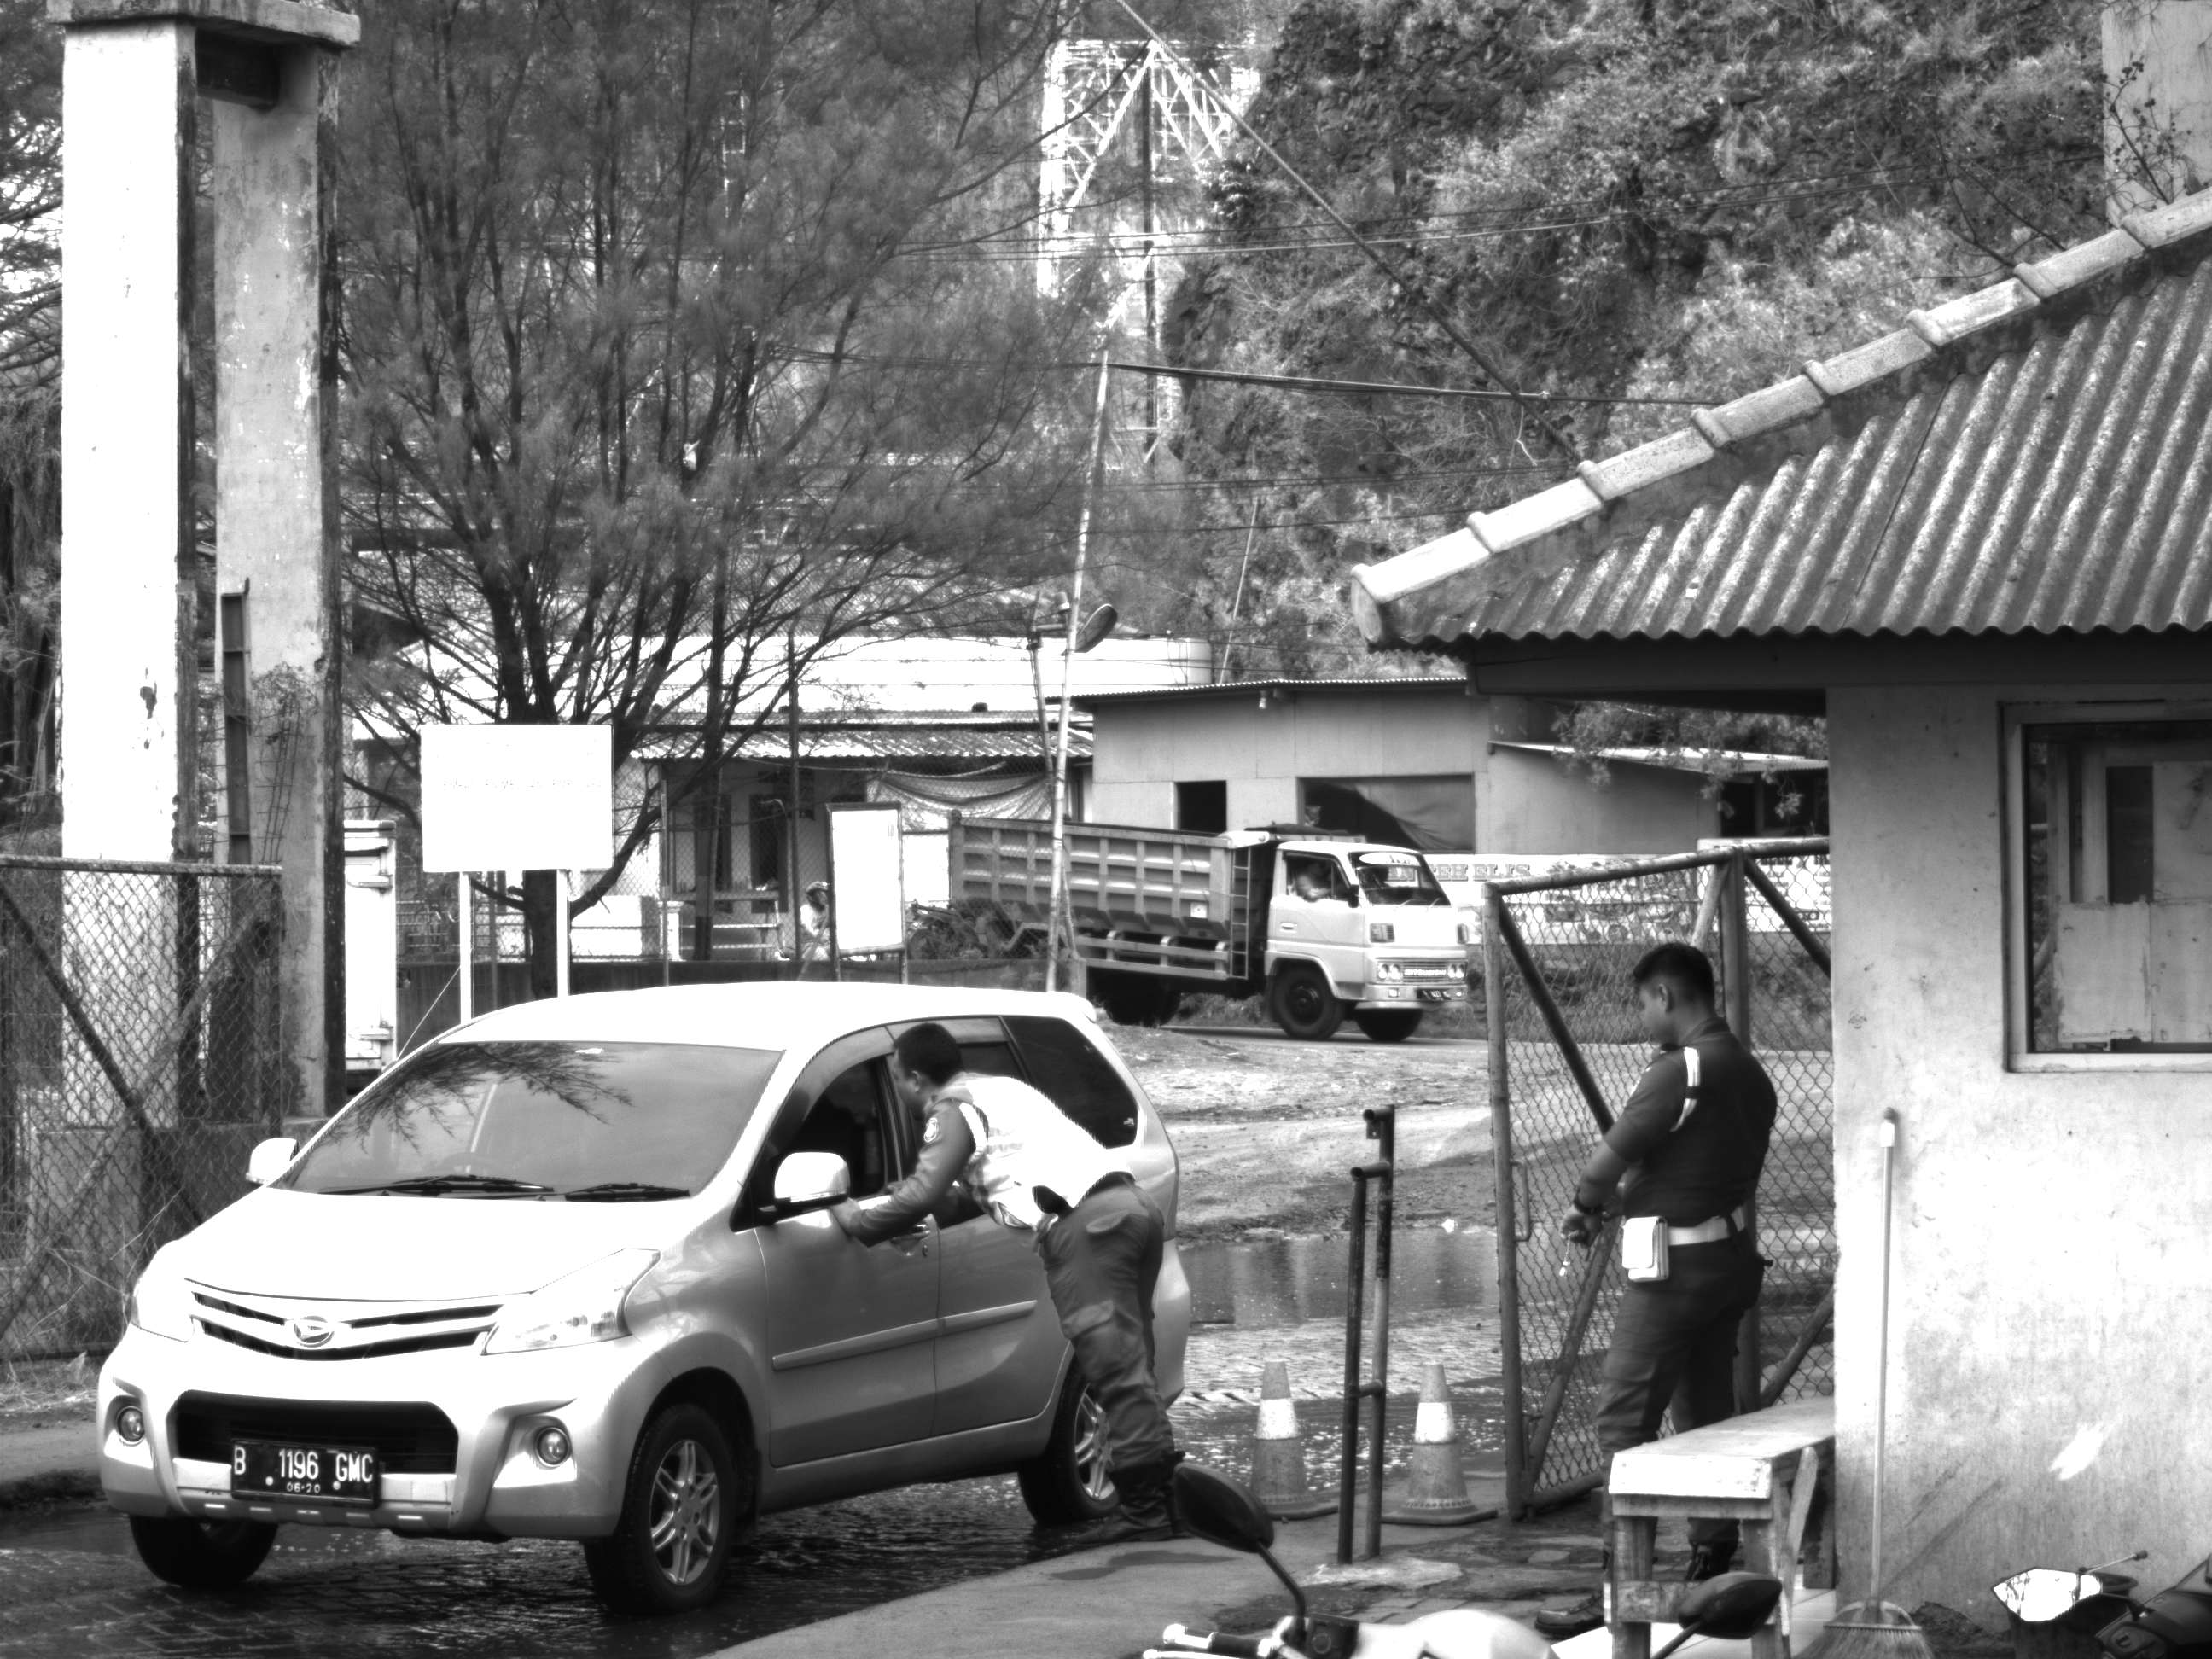day_small_front: (93, 992, 761, 1610)
plate: (230, 1431, 385, 1508)
